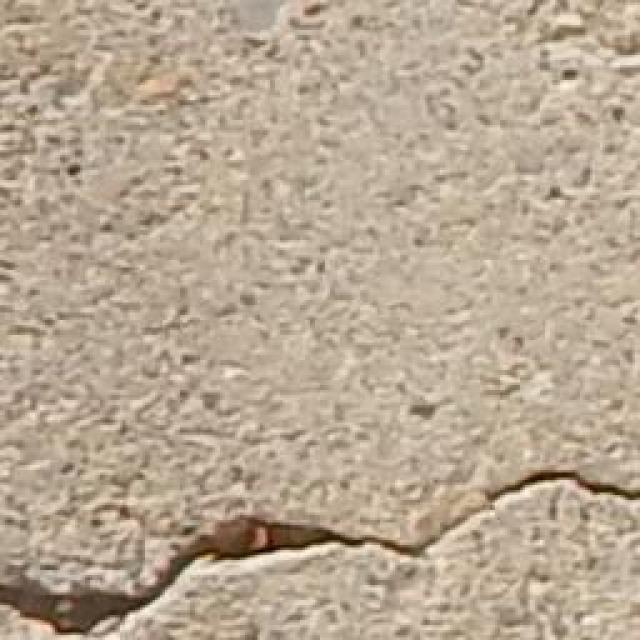concrete-crack: (0, 460, 640, 640)
